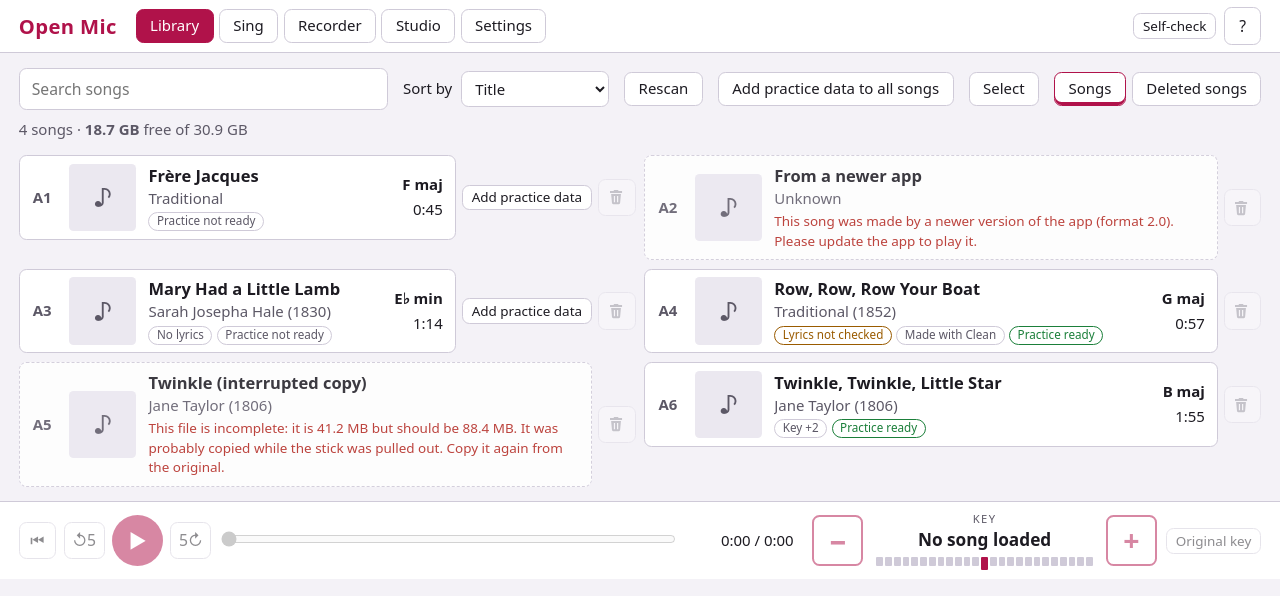
says which songs are ready and adds practice data to one song
Expected: the element with class "title-strip__row" shows "Practice ready", [644,362,1218,447]
Expected: the element with class "title-strip__row" shows "Practice not ready", [19,155,456,240]
Click the 1st button with class "library__practice-add" at point(527, 198), box [462,185,592,210]
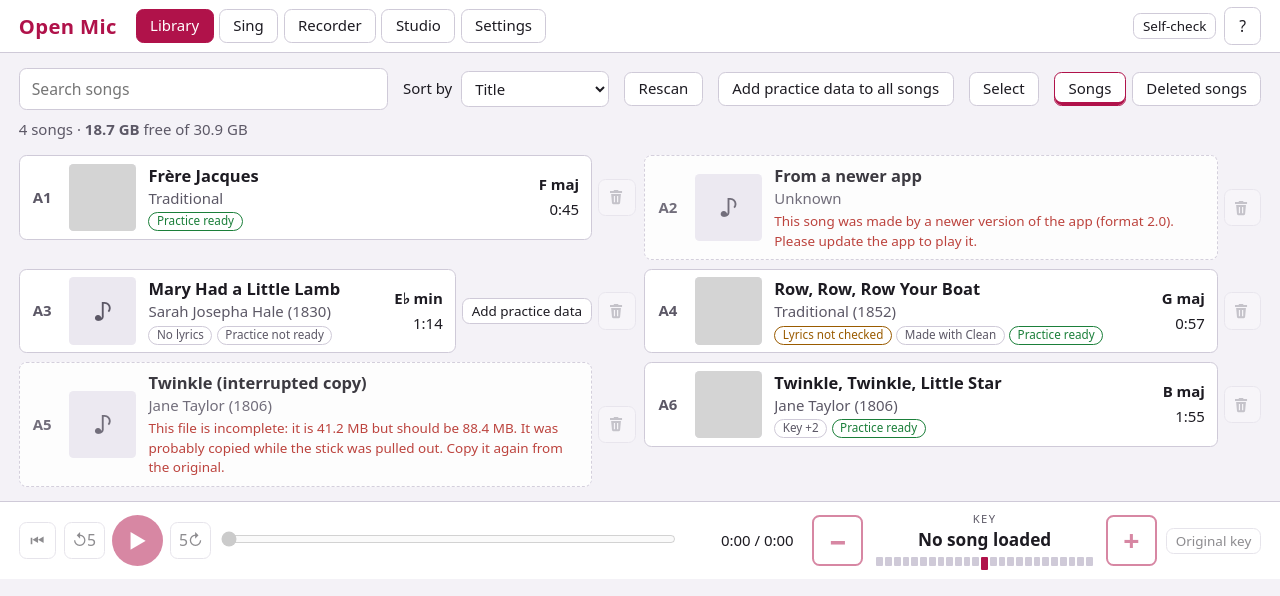
Now the element with class "title-strip__row" has attribute data-practice="ready", box [19,155,636,240]
